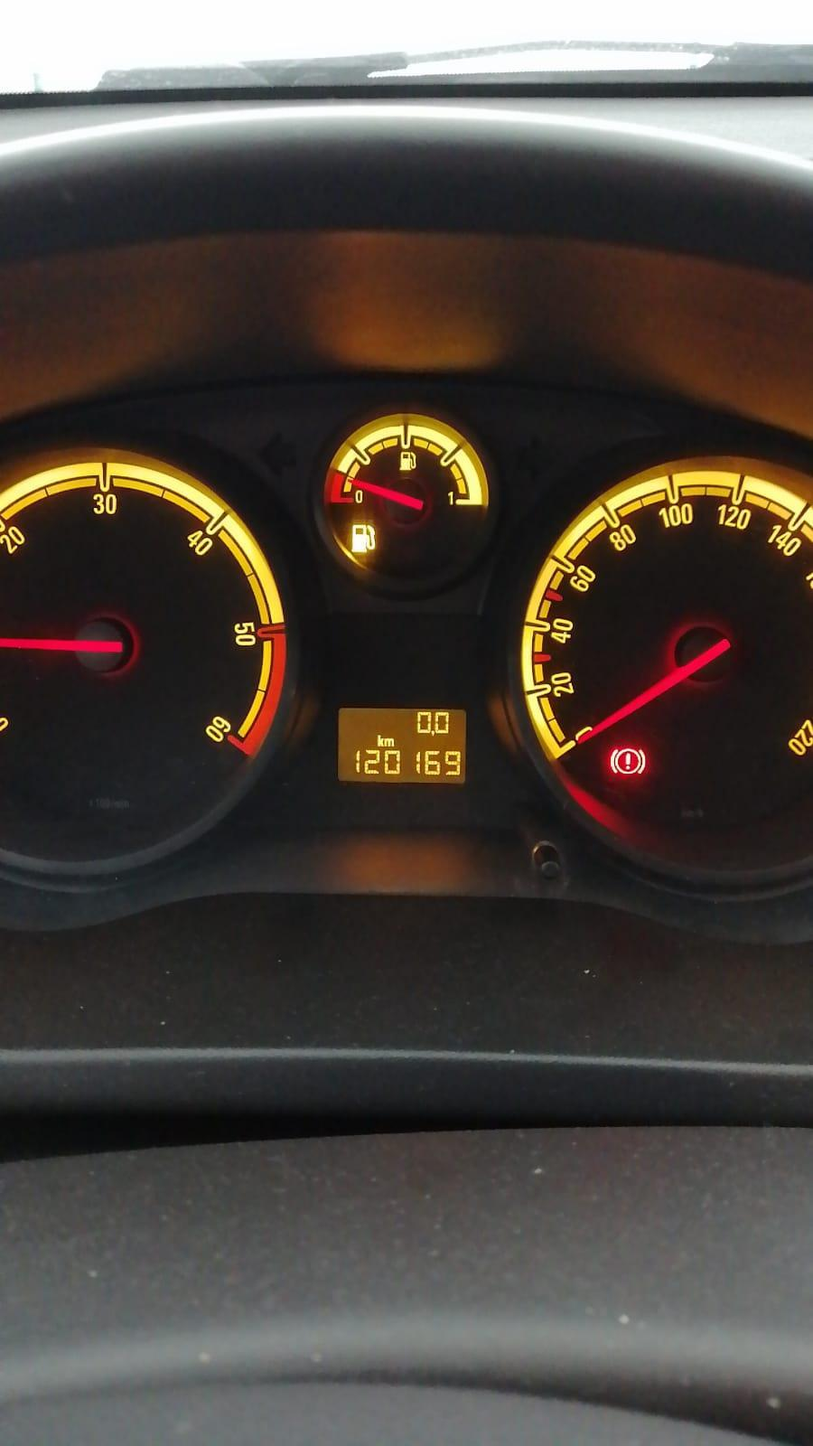-: (430, 728, 435, 737)
0: (383, 749, 400, 774), (416, 711, 431, 733), (434, 710, 448, 733)
1: (354, 748, 360, 773), (415, 750, 420, 774)
2: (362, 748, 379, 774)
6: (423, 749, 440, 775)
9: (444, 749, 460, 775)
X: (383, 737, 394, 746), (376, 734, 383, 746)
odometer: (334, 704, 468, 785)
